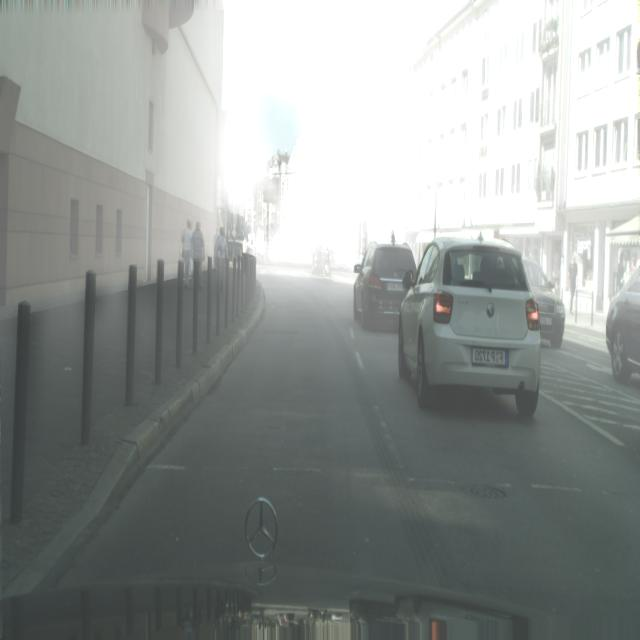bus: (214, 225, 228, 293), (192, 219, 204, 292), (182, 218, 193, 286), (568, 252, 578, 313)
person: (397, 229, 542, 418), (353, 242, 418, 331), (605, 265, 640, 383), (522, 257, 565, 349), (311, 244, 328, 274), (334, 249, 348, 269)
